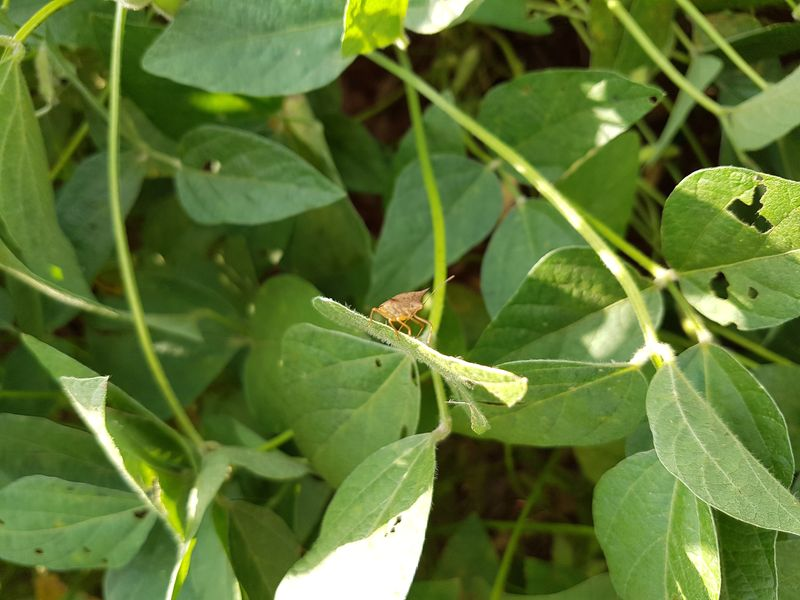Euschistus_heros_adulto: (361, 268, 460, 356)
